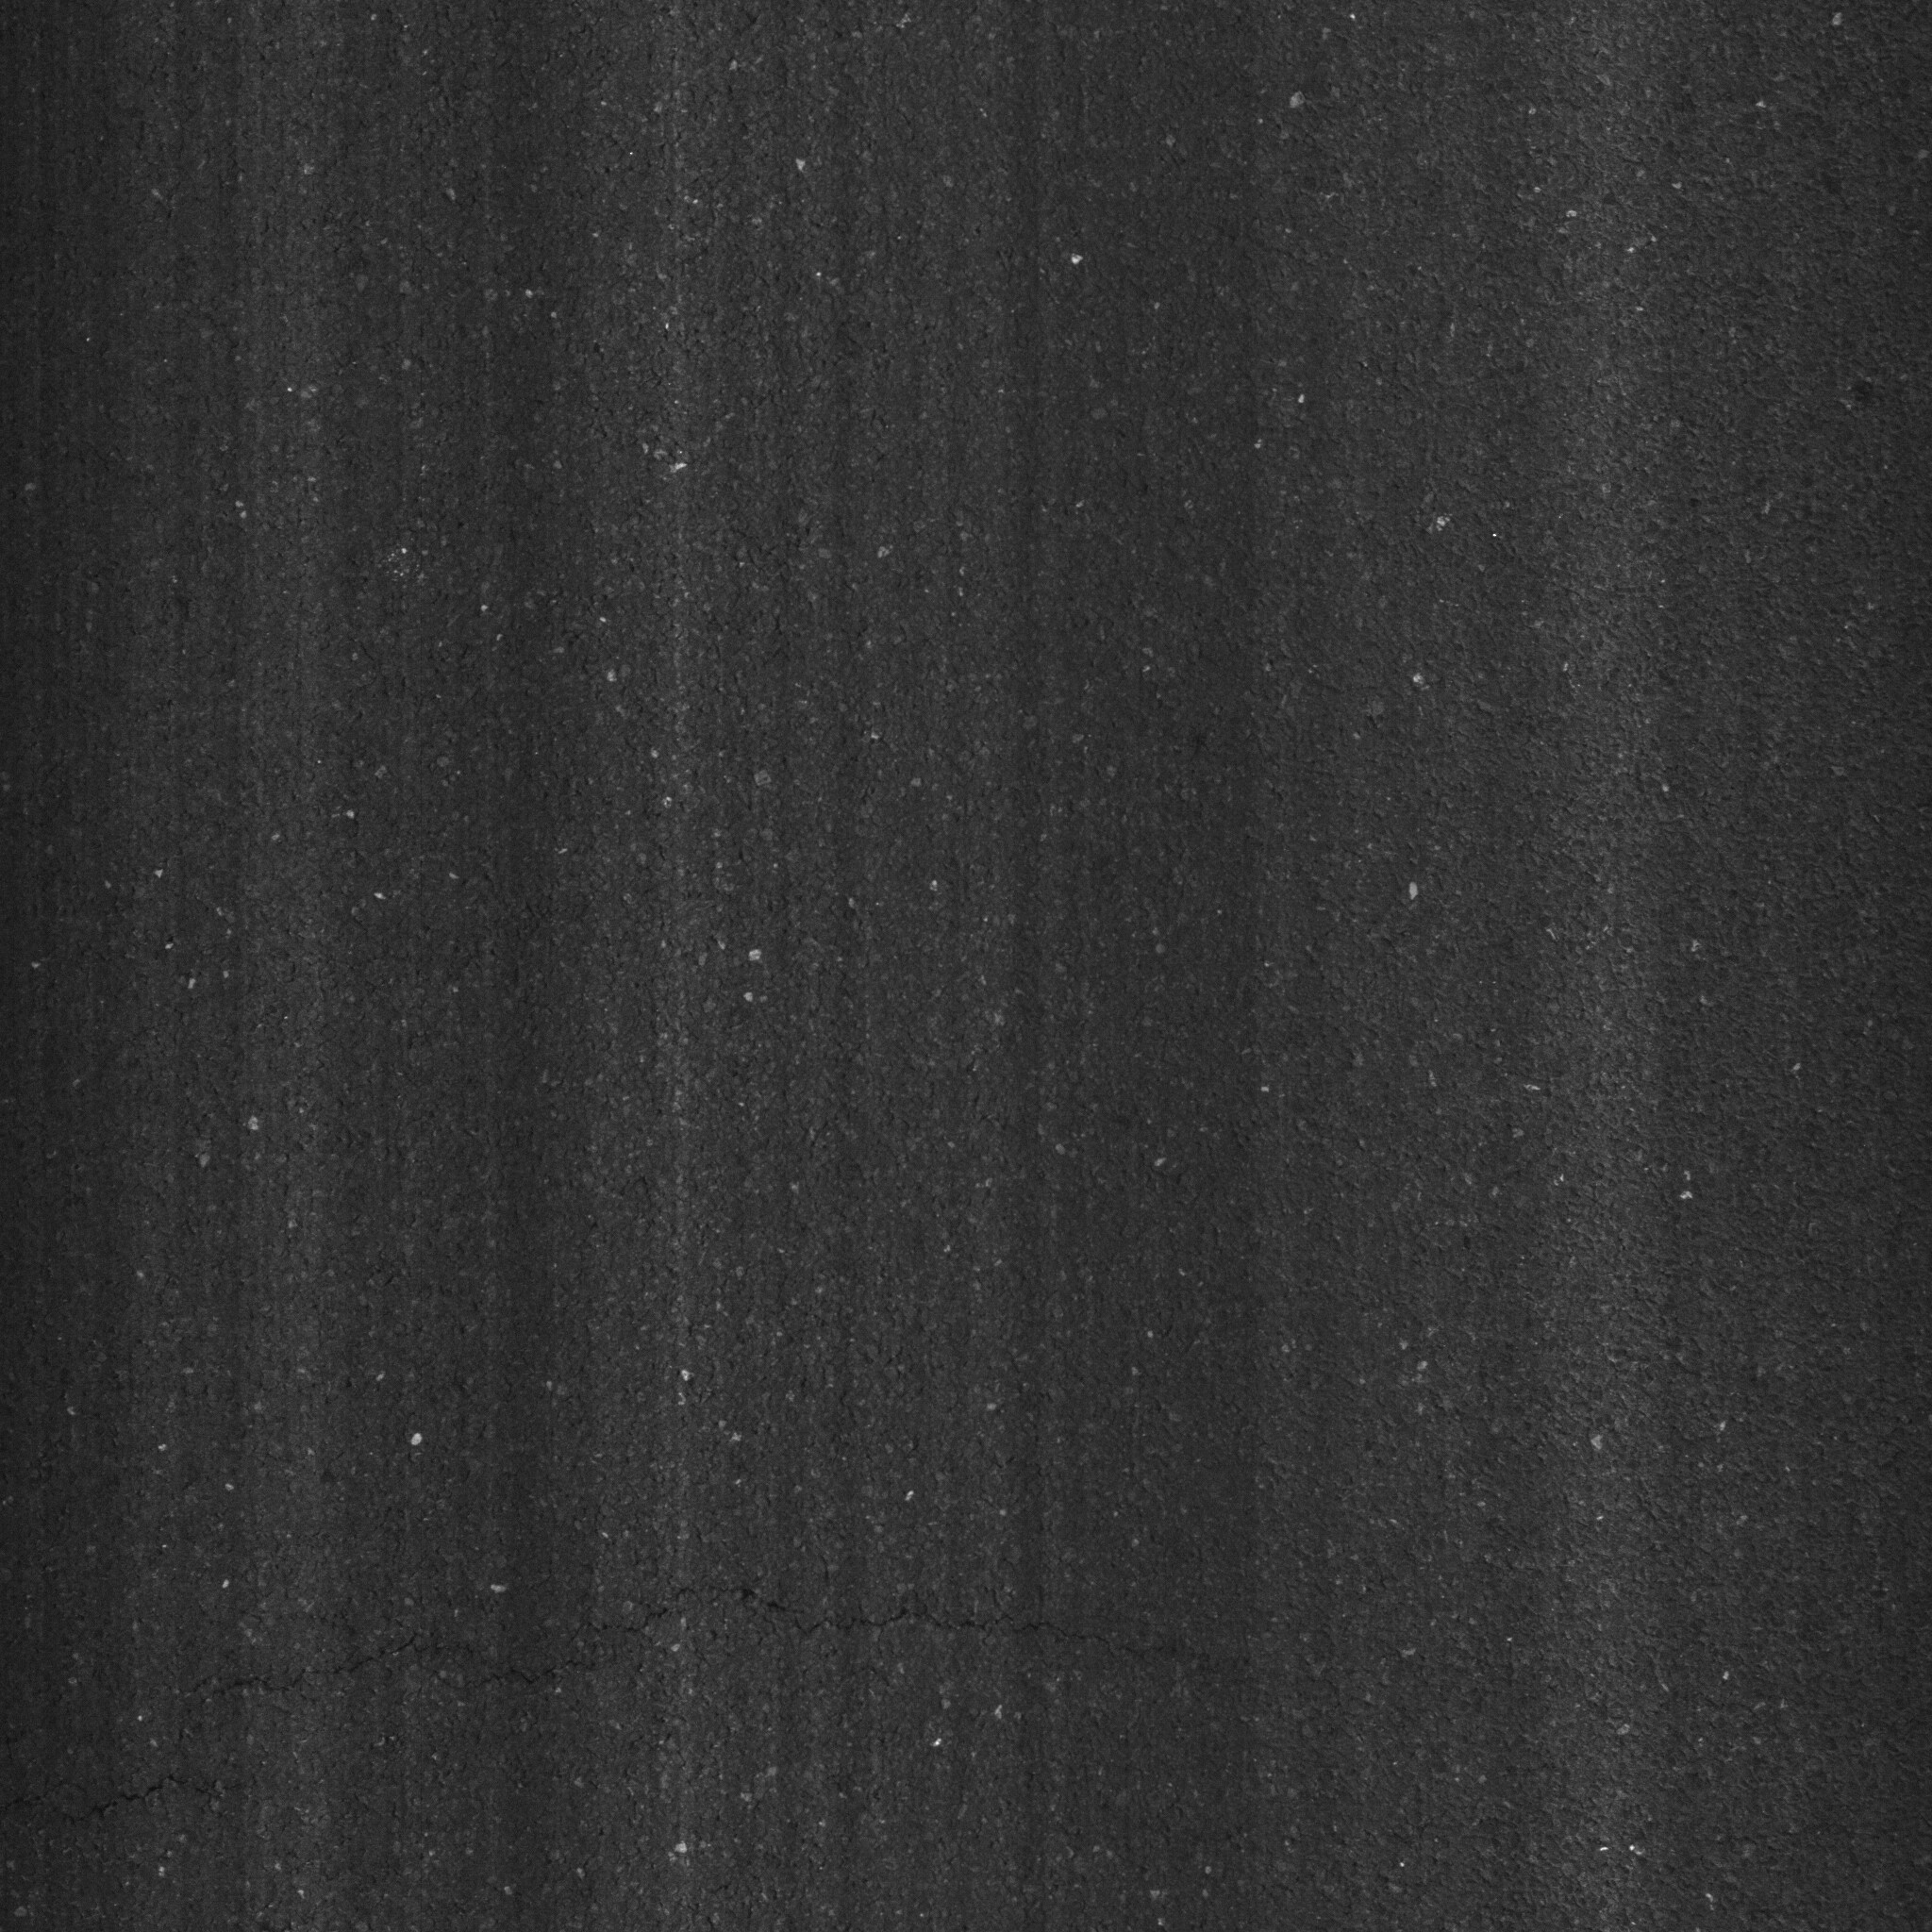transeverse: (14, 1566, 1203, 1828)
